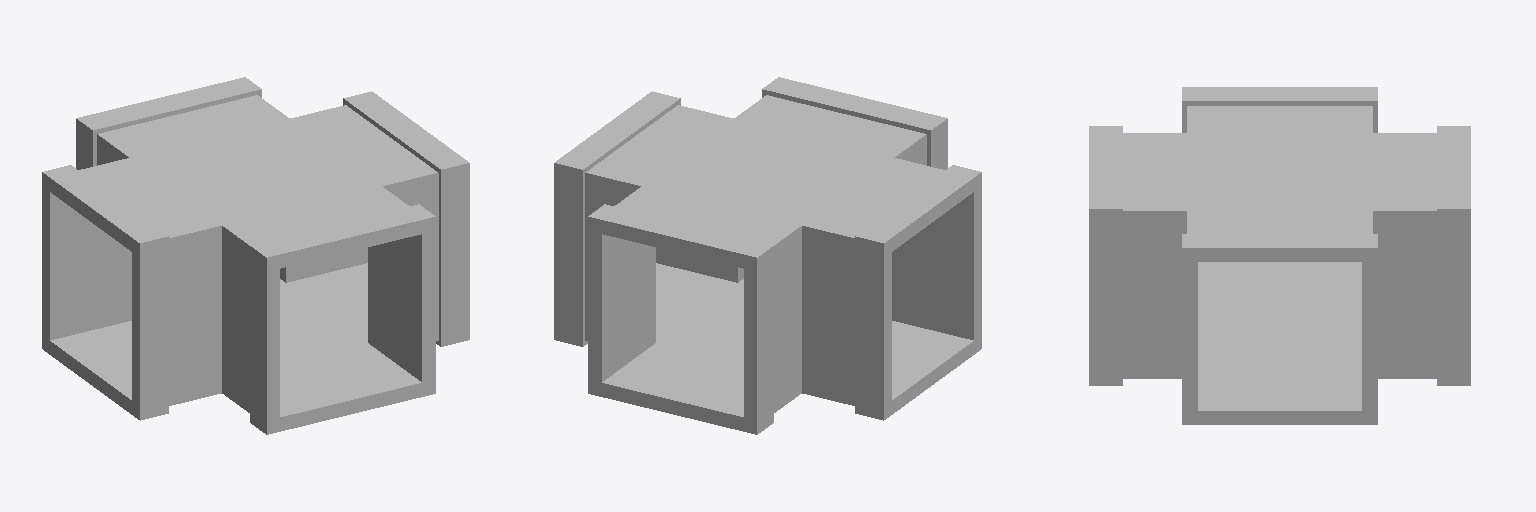
File: Vent-02.obj
3 renders of one model, left to right at view 1: azimuth 30°, elevation 25°; view 2: azimuth 150°, elevation 25°; view 3: azimuth 270°, elevation 25°, orthographic.
Visible parts, largest first — view 1: Vent-02_Cube.012; view 2: Vent-02_Cube.012; view 3: Vent-02_Cube.012.
Boxes of the visible parts, <box> form: Vent-02_Cube.012: <box>42,77,469,434</box>; Vent-02_Cube.012: <box>554,77,981,434</box>; Vent-02_Cube.012: <box>1089,87,1470,424</box>.
Bounding box in the file's own units: 3.29 × 1.69 × 3.29.